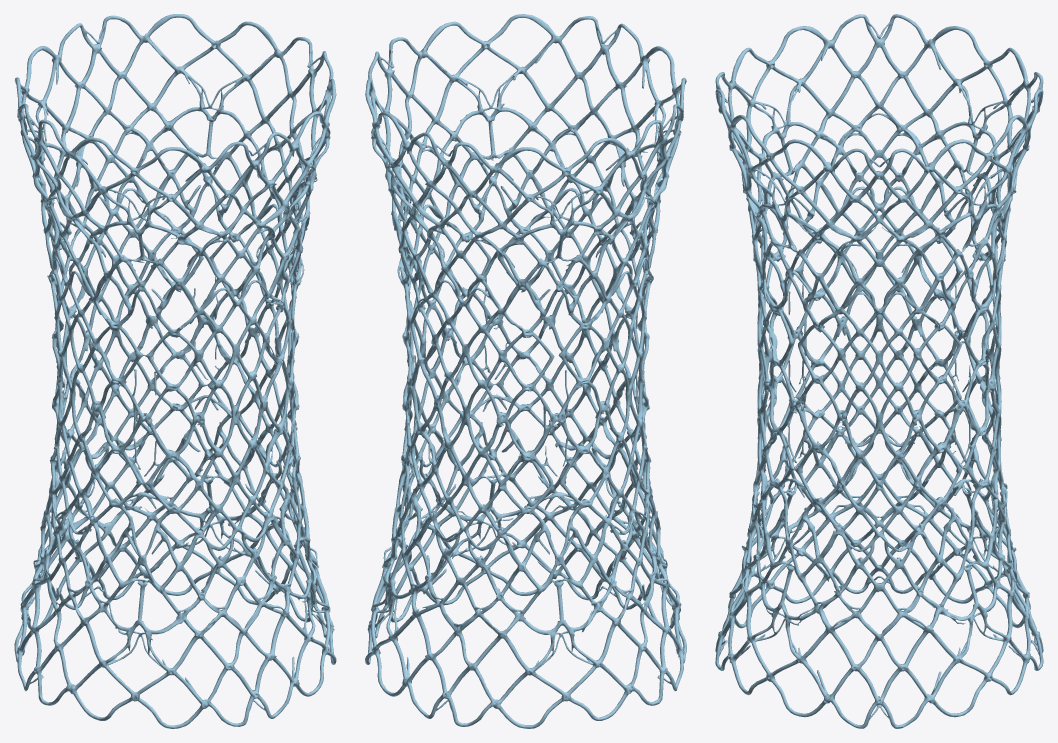
File: bonastent-hook-cross-uncovered.glb
The picture shows the model from 3 angles, left to right: view 1: azimuth 30°, elevation 25°; view 2: azimuth 150°, elevation 25°; view 3: azimuth 270°, elevation 25°; orthographic projection.
Parts seen in each view (by area): view 1: bonastent-hook-cross-uncovered-01; view 2: bonastent-hook-cross-uncovered-01; view 3: bonastent-hook-cross-uncovered-01.
Part boxes in pixels (box(x1,y1,x2,y2)): bonastent-hook-cross-uncovered-01: box(14, 14, 336, 728); bonastent-hook-cross-uncovered-01: box(365, 14, 686, 728); bonastent-hook-cross-uncovered-01: box(715, 14, 1043, 728).
Bounding box in the file's own units: 1.03 × 2 × 1.03.
